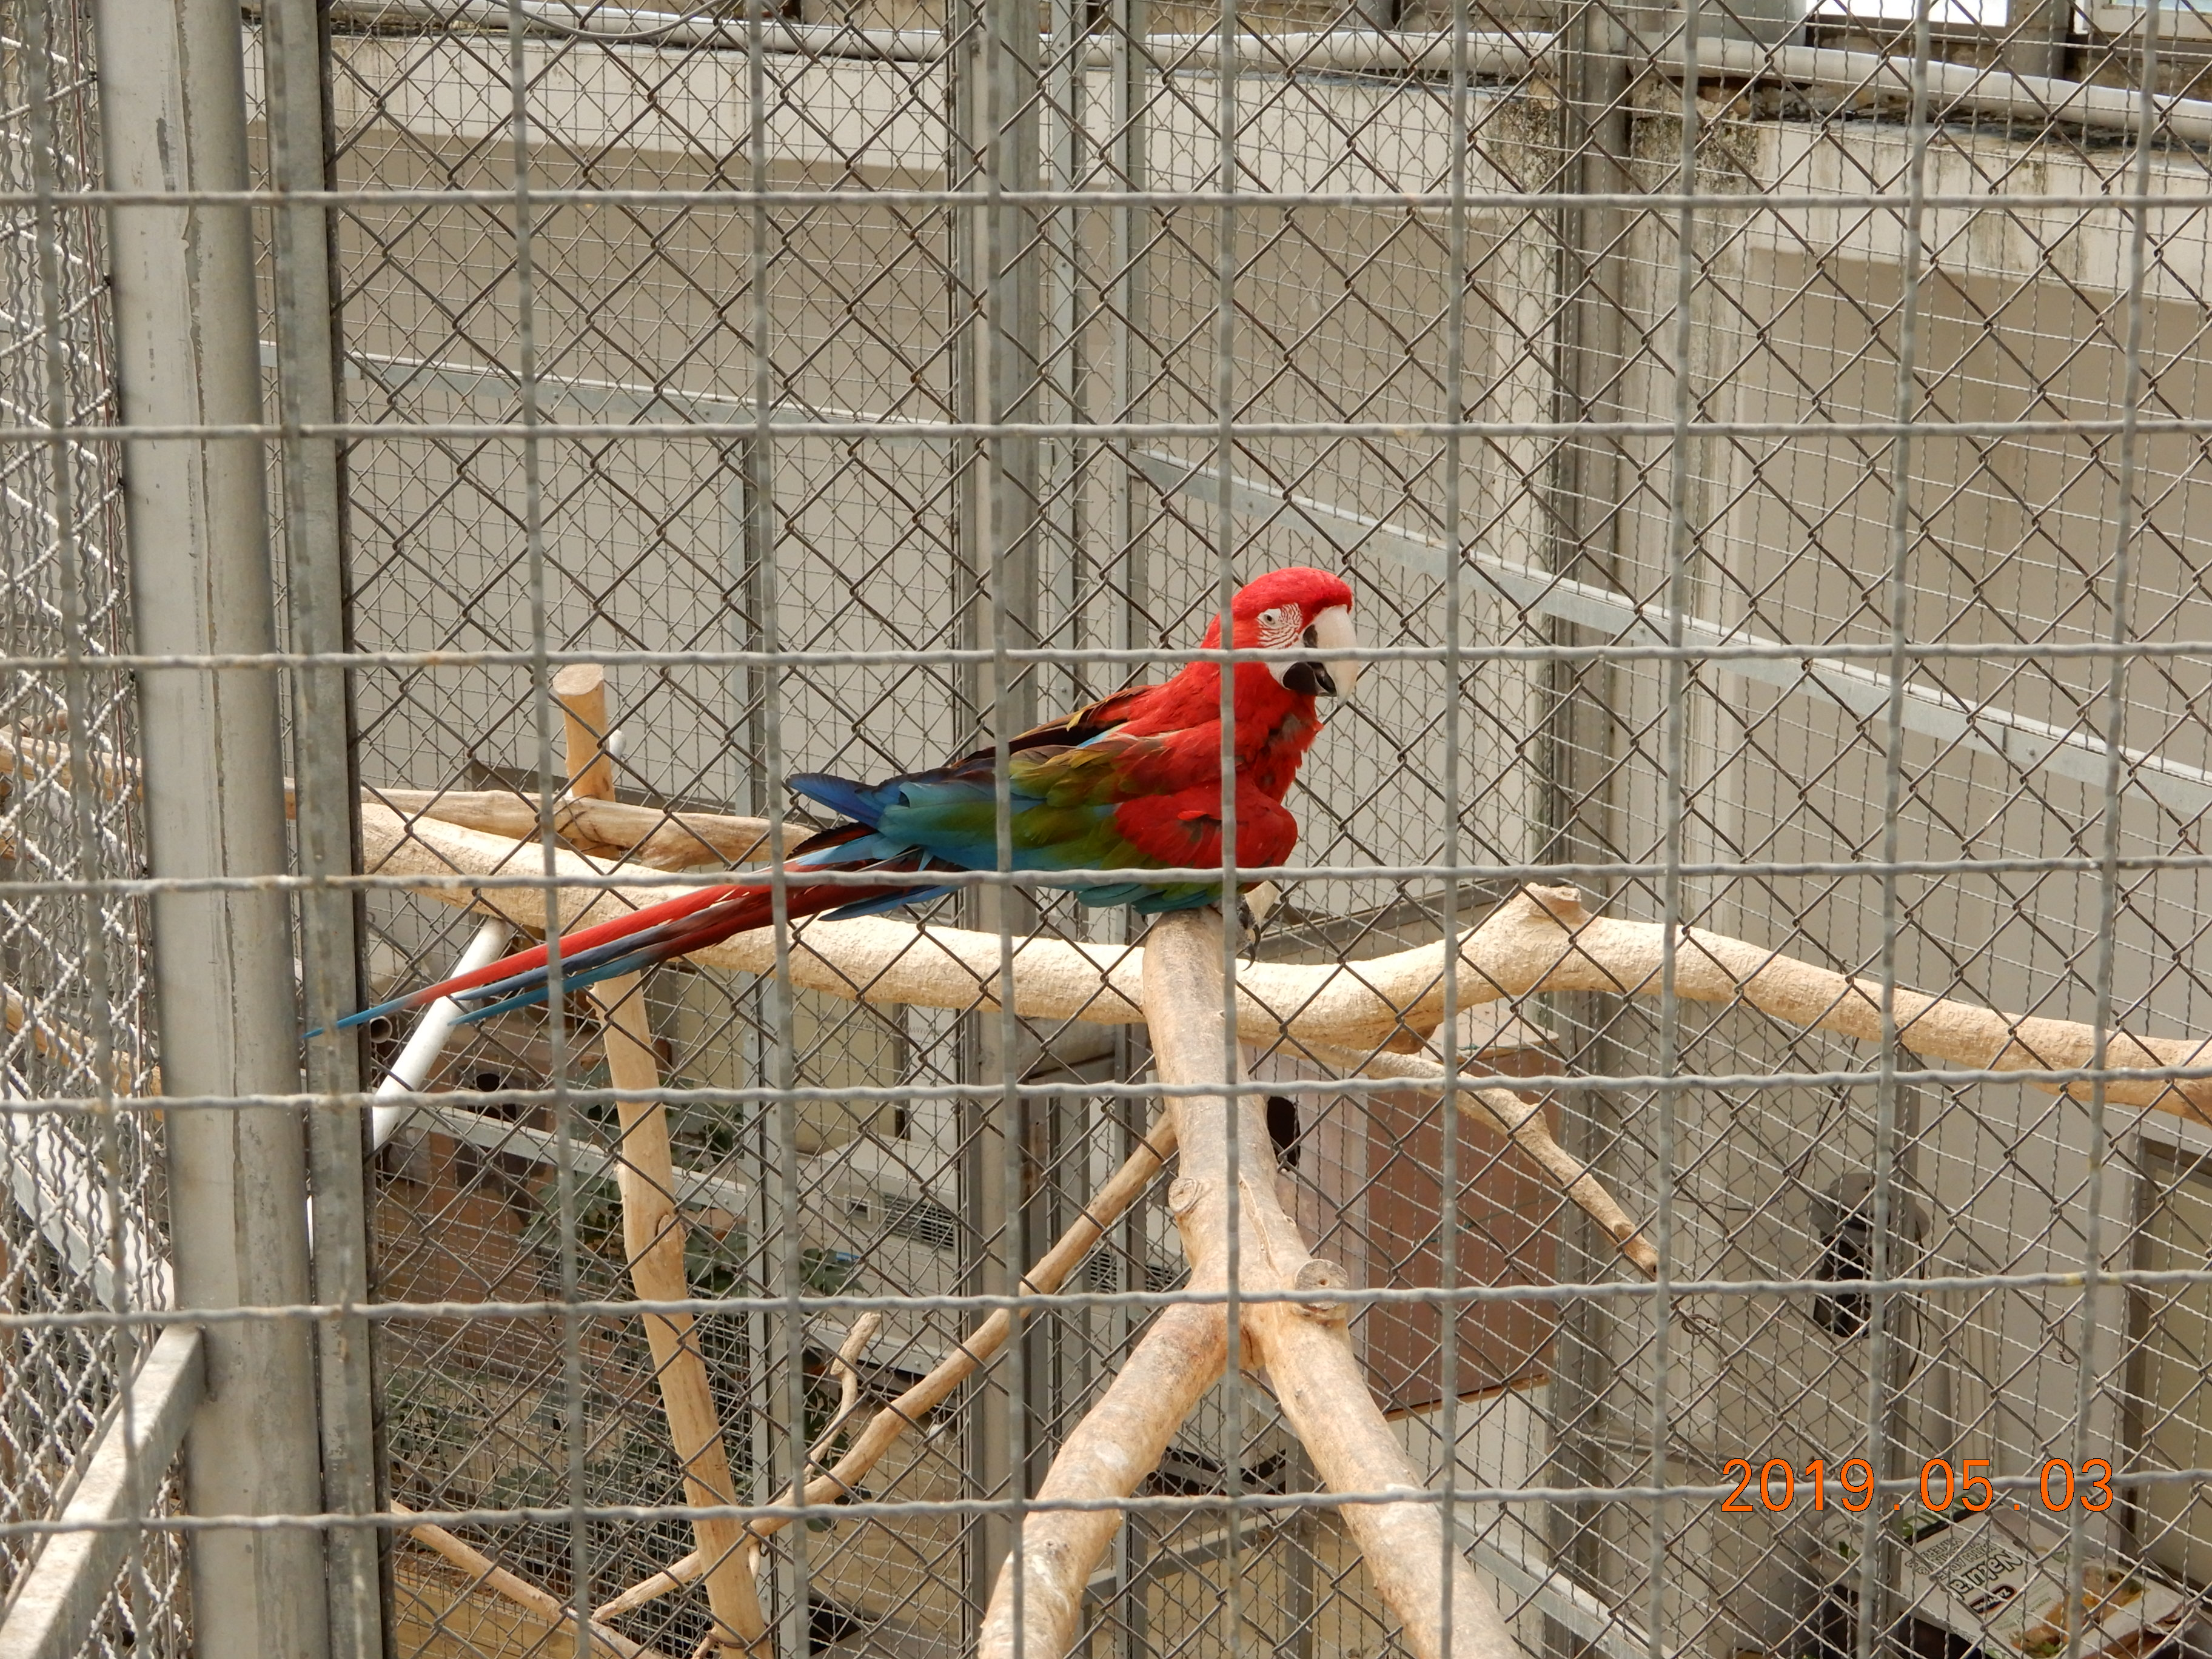Ara chloroptera: (303, 556, 1360, 1061)
